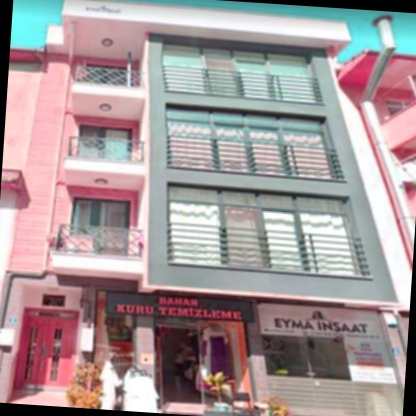door: (17, 309, 76, 391)
